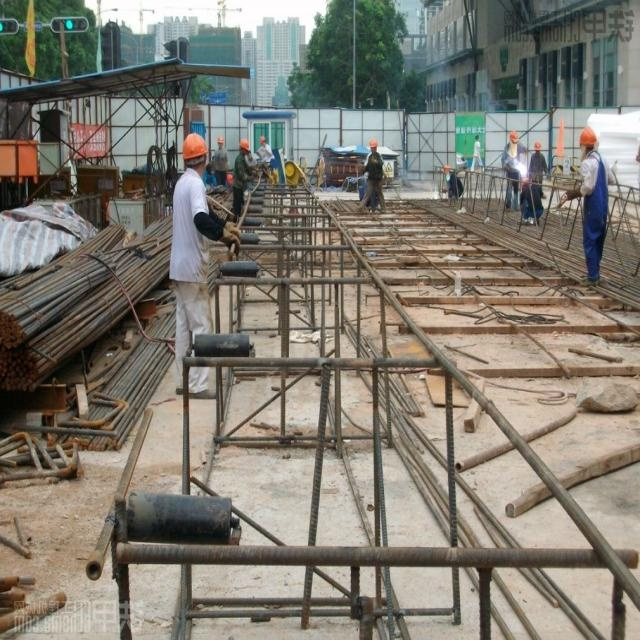Con_Casco: (182, 133, 208, 172), (577, 127, 598, 156)
Sin_Chaleco: (169, 173, 208, 287), (580, 155, 611, 220)
